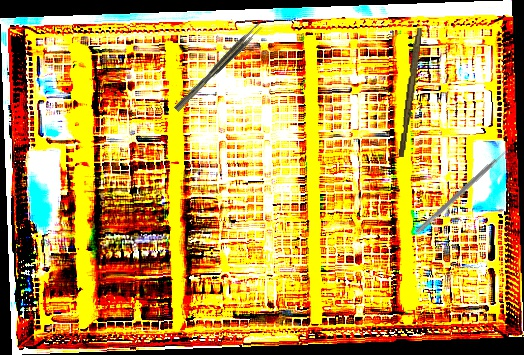Scalpel Handle: (397, 27, 423, 158)
Spatula Surgical: (414, 146, 514, 239)
Tissue Forceps: (171, 22, 264, 112)
